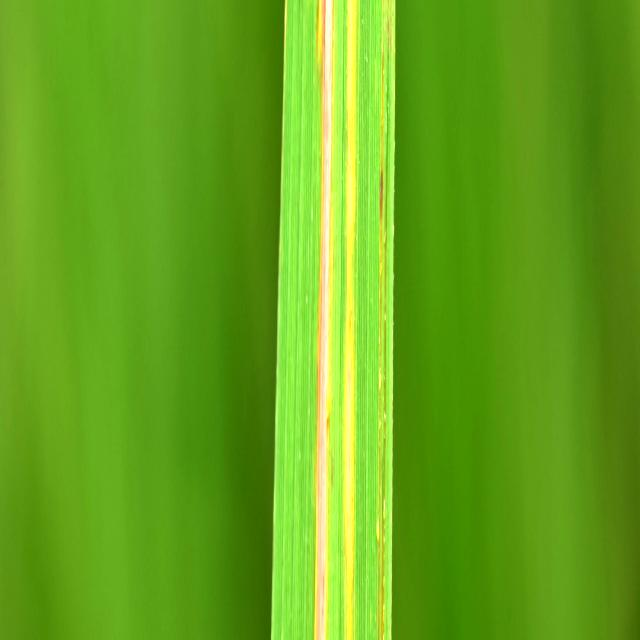BLB: (314, 0, 334, 637), (344, 0, 356, 638)
